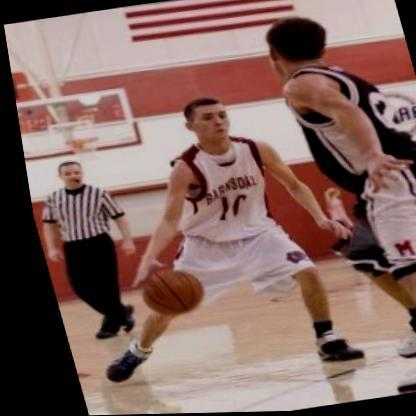basketball: (125, 259, 204, 328)
